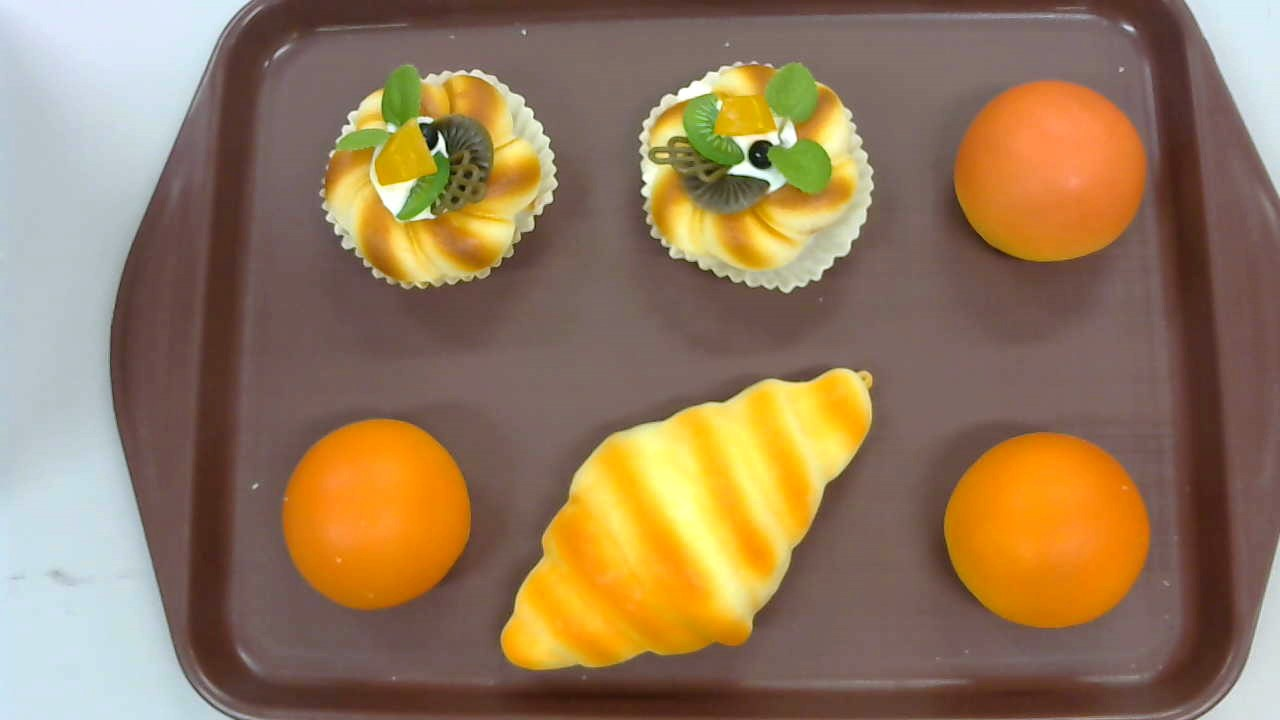bun: (943, 430, 1152, 629), (282, 416, 473, 610), (954, 79, 1147, 263)
croissant: (500, 366, 876, 672)
fruit tart: (636, 58, 875, 294), (320, 63, 561, 292)
